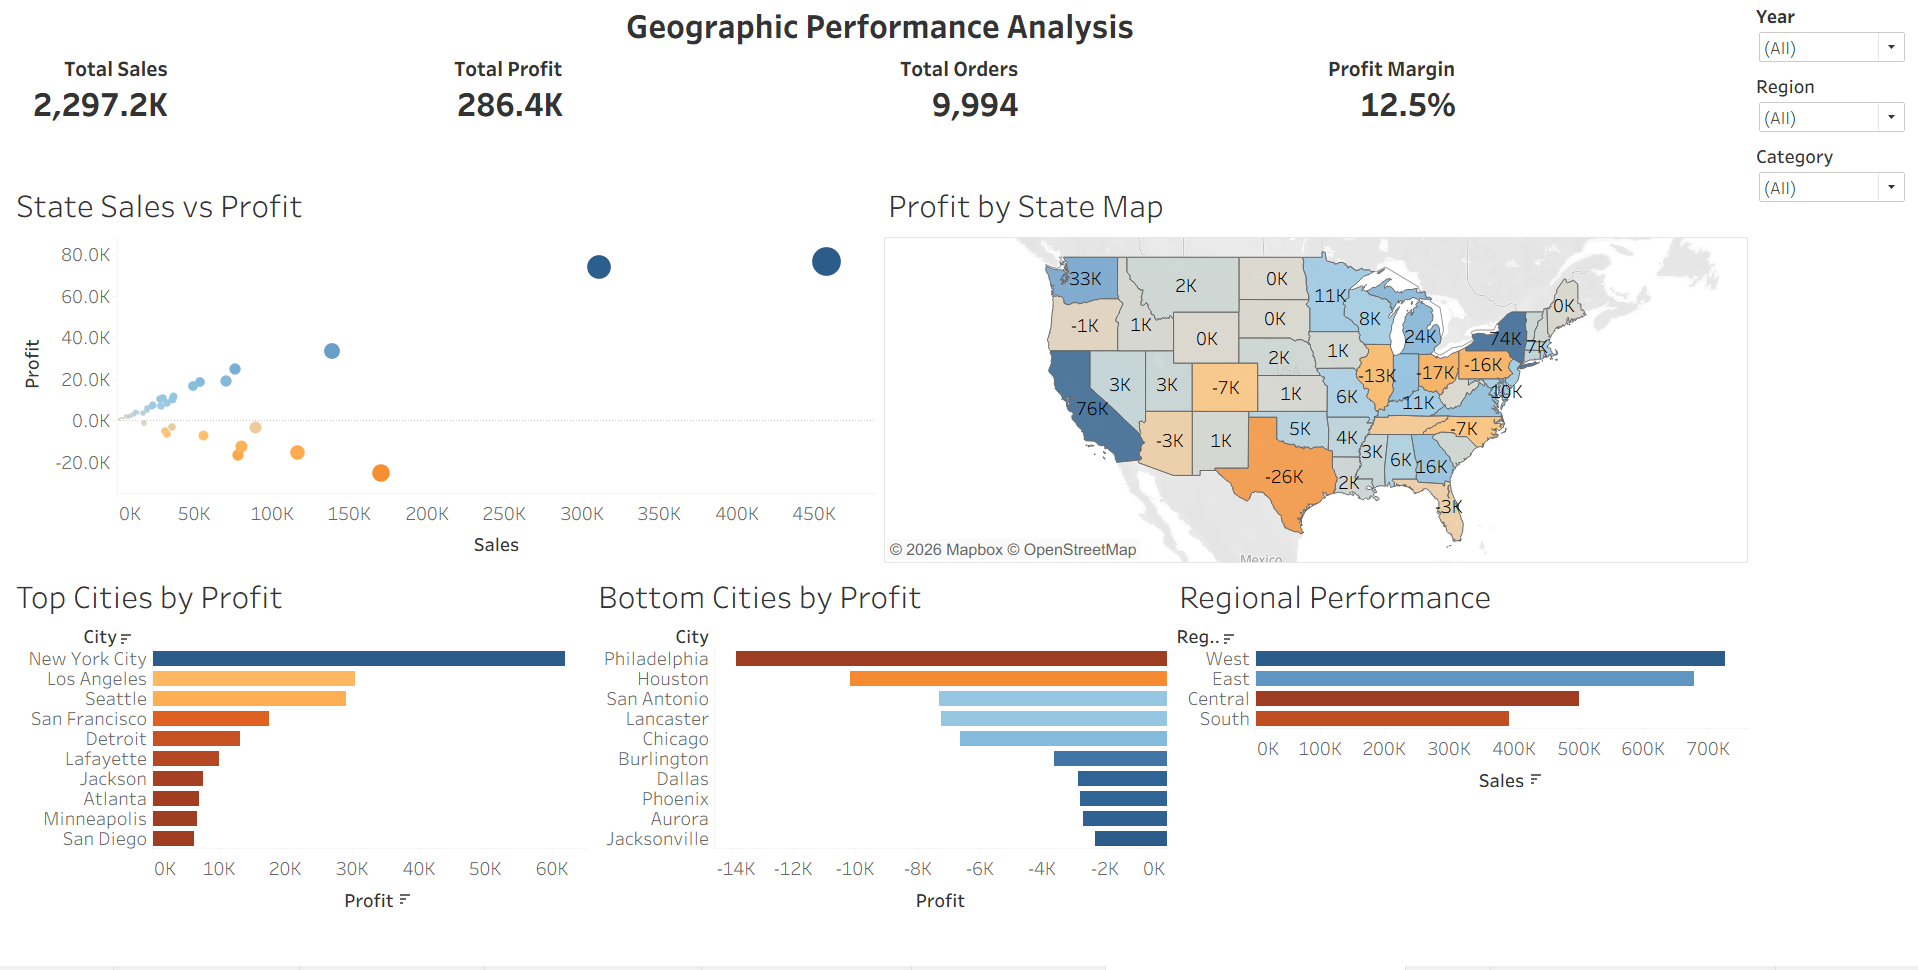

The dashboard page shown, as its layout file describes it:
{"tool":"tableau","page":{"name":"Geographic Performance Analysis","canvas":[1000,1000],"units":"permille","ordinal":3},"visuals":[{"type":"title","box":[5,10.3,890.3,66.9]},{"type":"filter","title":"State Sales vs Profit","param":"[federated.1k9e1lu12u8j3r19thx170q1152m].[yr:full_date:ok]","box":[895.3,10.3,99.8,90.1]},{"type":"worksheet","title":"Total Sales","mark":"Automatic","box":[5,77.2,222.3,114.5]},{"type":"worksheet","title":"Total_Profit","mark":"Automatic","box":[227.3,77.2,222.5,114.5]},{"type":"worksheet","title":"Total Orders","mark":"Automatic","box":[449.8,77.2,222.7,114.5]},{"type":"worksheet","title":"Profit Margin %","mark":"Automatic","box":[672.5,77.2,222.8,114.5]},{"type":"filter","title":"State Sales vs Profit","param":"[federated.1k9e1lu12u8j3r19thx170q1152m].[none:region:nk]","box":[895.3,100.4,99.8,90.1]},{"type":"filter","title":"State Sales vs Profit","param":"[federated.1k9e1lu12u8j3r19thx170q1152m].[none:category:nk]","box":[895.3,190.5,99.8,90.1]},{"type":"worksheet","title":"State Sales vs Profit","mark":"Circle","rows":["profit"],"cols":["sales"],"box":[5,191.8,445.1,399]},{"type":"worksheet","title":"Profit by State Map","mark":"Multipolygon","box":[450.1,191.8,445.1,399]},{"type":"worksheet","title":"Top Cities by Profit","mark":"Bar","rows":["city"],"cols":["profit"],"box":[5,590.7,296.8,399]},{"type":"worksheet","title":"Bottom Cities by Profit","mark":"Bar","rows":["city"],"cols":["profit"],"box":[301.8,590.7,296.8,399]},{"type":"worksheet","title":"Regional Performance","mark":"Bar","rows":["region"],"cols":["sales"],"box":[598.5,590.7,296.8,399]}]}

Visuals, with their boxes on the dashboard's canvas, which has no fixed pixel size, in thousandths of its width and height (x1, y1, x2, y2). These are canvas units, not pixel positions in the 1918x970 screenshot, which may show the page scaled, cropped or inside an application window:
title: {"x1": 5, "y1": 10, "x2": 895, "y2": 77}
"State Sales vs Profit" filter: {"x1": 895, "y1": 10, "x2": 995, "y2": 100}
"Total Sales" worksheet: {"x1": 5, "y1": 77, "x2": 227, "y2": 192}
"Total_Profit" worksheet: {"x1": 227, "y1": 77, "x2": 450, "y2": 192}
"Total Orders" worksheet: {"x1": 450, "y1": 77, "x2": 672, "y2": 192}
"Profit Margin %" worksheet: {"x1": 672, "y1": 77, "x2": 895, "y2": 192}
"State Sales vs Profit" filter: {"x1": 895, "y1": 100, "x2": 995, "y2": 190}
"State Sales vs Profit" filter: {"x1": 895, "y1": 190, "x2": 995, "y2": 281}
"State Sales vs Profit" worksheet (Circle marks): {"x1": 5, "y1": 192, "x2": 450, "y2": 591}
"Profit by State Map" worksheet (Multipolygon marks): {"x1": 450, "y1": 192, "x2": 895, "y2": 591}
"Top Cities by Profit" worksheet (Bar marks): {"x1": 5, "y1": 591, "x2": 302, "y2": 990}
"Bottom Cities by Profit" worksheet (Bar marks): {"x1": 302, "y1": 591, "x2": 599, "y2": 990}
"Regional Performance" worksheet (Bar marks): {"x1": 598, "y1": 591, "x2": 895, "y2": 990}
